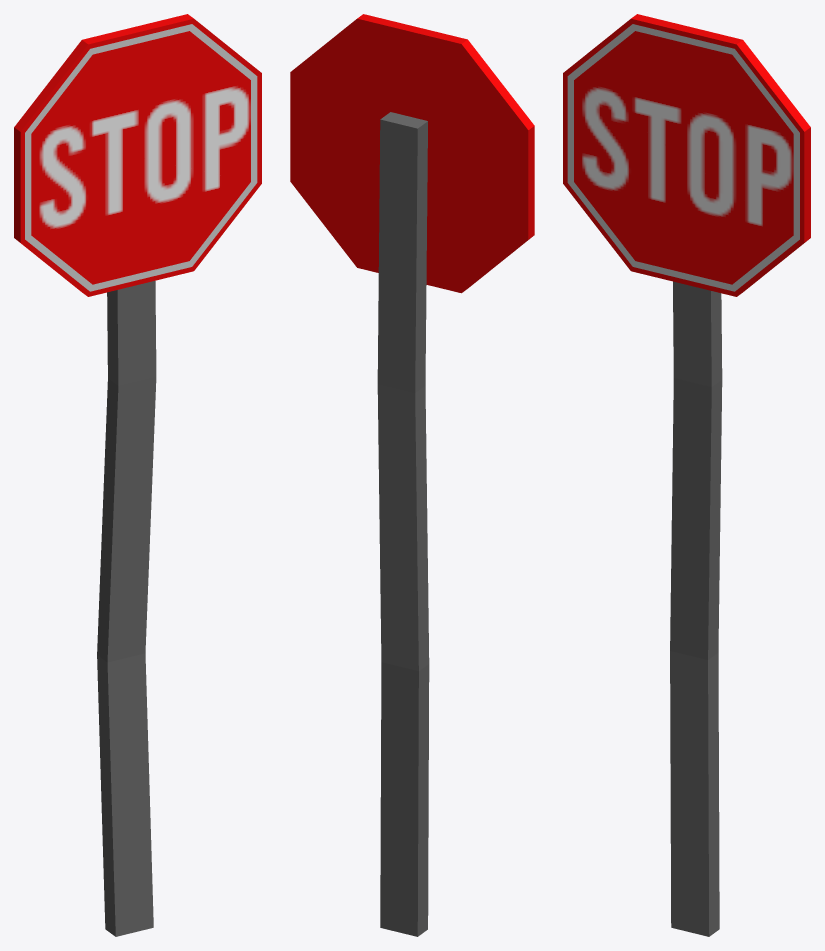
File: Ext_RoadSign02.fbx
3 renders of one model, left to right at view 1: azimuth 30°, elevation 25°; view 2: azimuth 150°, elevation 25°; view 3: azimuth 330°, elevation 25°, orthographic.
Parts seen in each view (by area): view 1: Ext_RoadSign02; view 2: Ext_RoadSign02; view 3: Ext_RoadSign02.
Part boxes in pixels (x1,y1,x2,y2): Ext_RoadSign02: (14,14,261,936); Ext_RoadSign02: (290,14,534,936); Ext_RoadSign02: (563,14,810,936).
Size of what is drawn, in the model's own units: 62.35 by 9.14 by 224.
